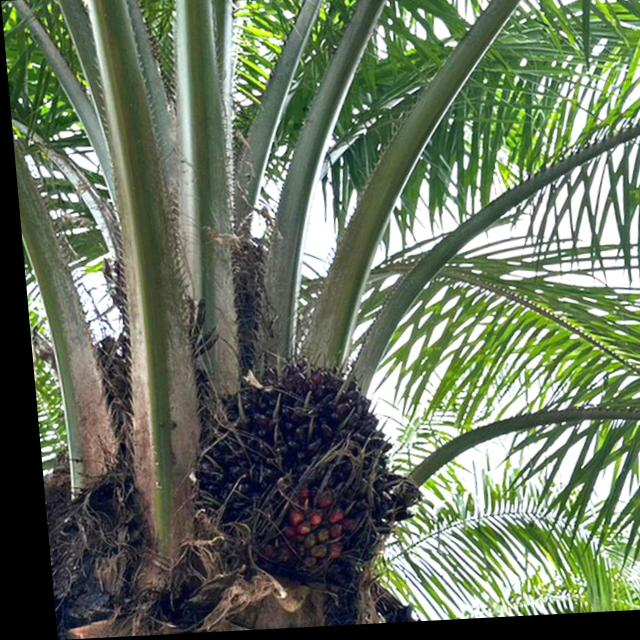ripe: (183, 359, 420, 590)
